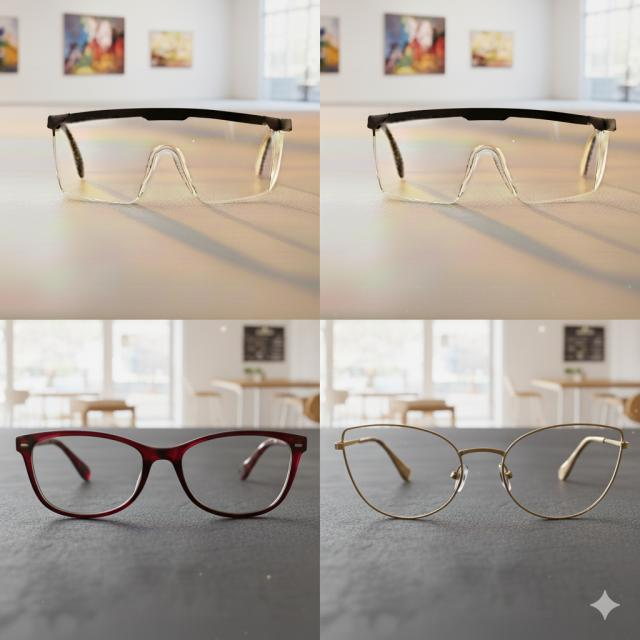oculos-epi: (356, 102, 631, 224), (45, 105, 296, 211)
sem_oculos: (335, 425, 627, 519), (17, 430, 306, 518)
